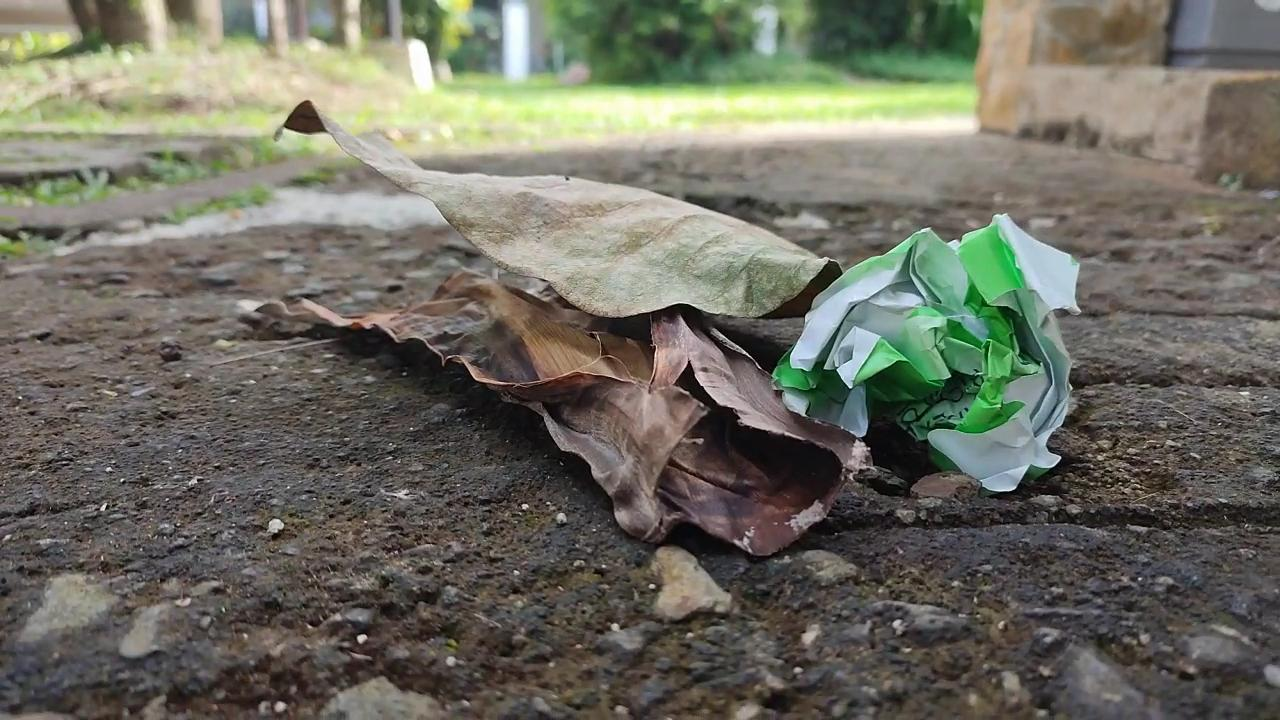Paper: (765, 204, 1104, 496)
